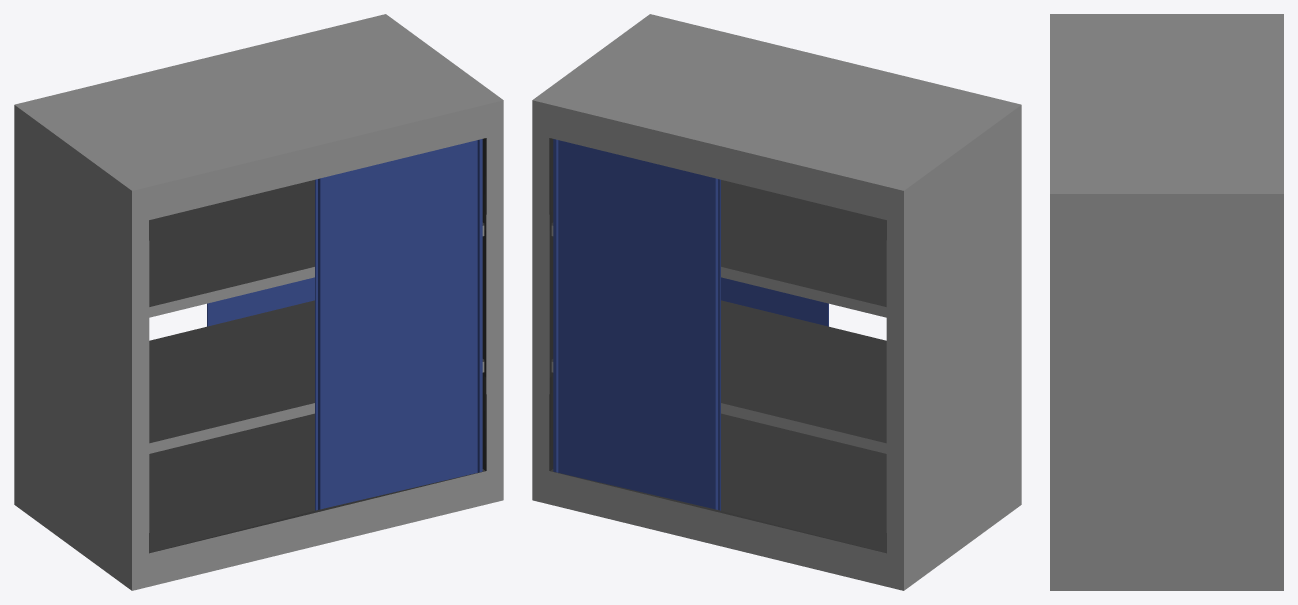
Rendered from Fire_refrigerator1F.fbx.
The picture shows the model from 3 angles, left to right: view 1: azimuth 30°, elevation 25°; view 2: azimuth 150°, elevation 25°; view 3: azimuth 270°, elevation 25°; orthographic projection.
Parts seen in each view (by area): view 1: refrigerator, Grass; view 2: refrigerator, Grass; view 3: refrigerator.
Part boxes in pixels (box(x1,y1,x2,y2)): refrigerator: box(14, 14, 503, 590); Grass: box(207, 139, 482, 510); refrigerator: box(532, 14, 1021, 590); Grass: box(553, 139, 828, 510); refrigerator: box(1050, 14, 1283, 590).
Bounding box in the file's own units: 423 × 435 × 232.
